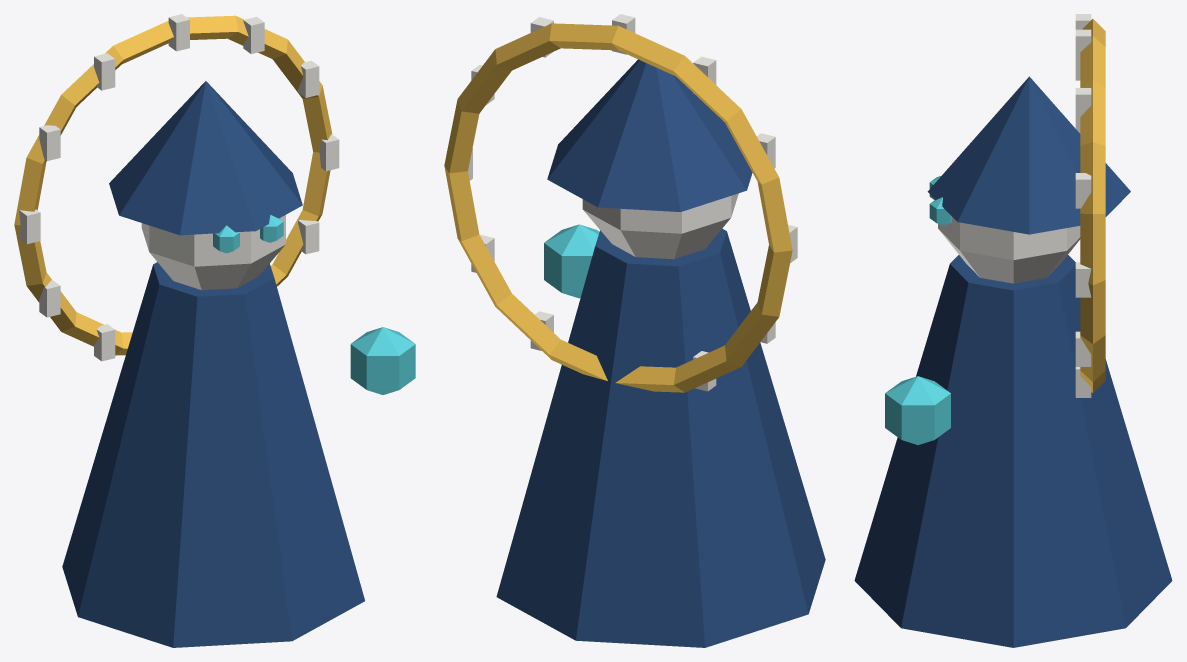
Rendered from mdl_mascota_senor_tiempo.fbx.
3 views of the same model, side by side, from view 1: azimuth 30°, elevation 25°; view 2: azimuth 150°, elevation 25°; view 3: azimuth 270°, elevation 25° (orthographic). The views are drawn at different scales.
Visible parts, largest first — view 1: mdl_mascota_senor_tiempo; view 2: mdl_mascota_senor_tiempo; view 3: mdl_mascota_senor_tiempo.
Part boxes in pixels (x1,y1,x2,y2): mdl_mascota_senor_tiempo: [14, 14, 415, 647]; mdl_mascota_senor_tiempo: [444, 14, 825, 647]; mdl_mascota_senor_tiempo: [854, 14, 1172, 647].
Size of the model in its own units: 118 by 190 by 100.
